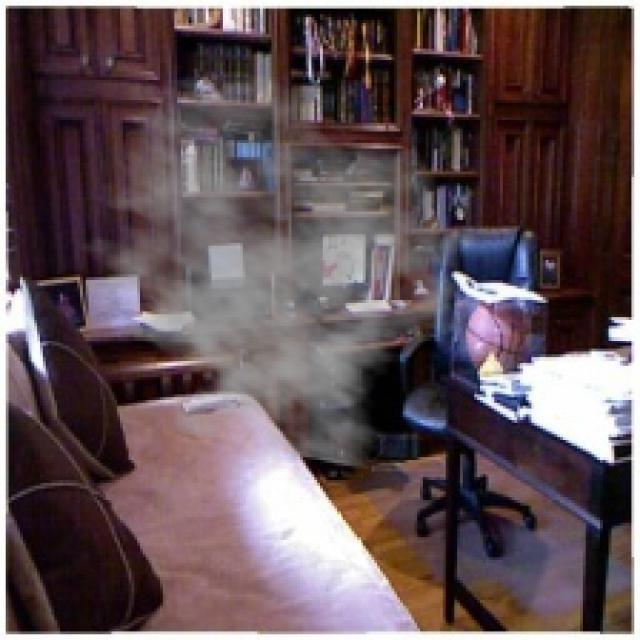Smoke: (60, 69, 483, 472)
